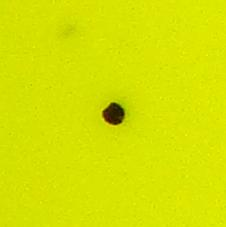Coleoptera: (100, 100, 126, 127)
